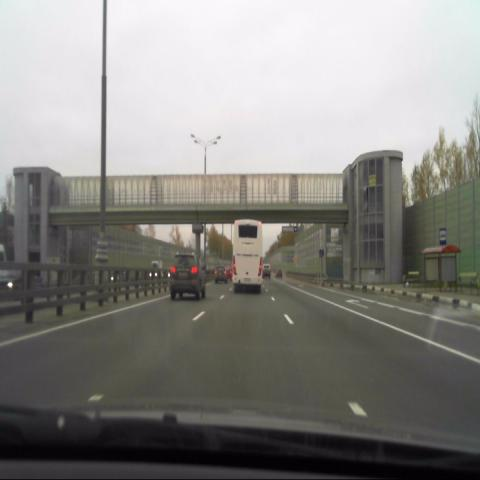5_16: (440, 228, 447, 246)
